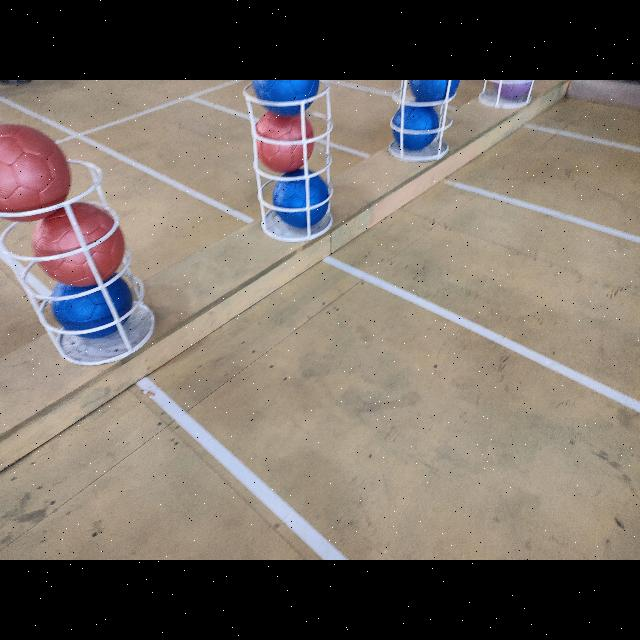B: (50, 282, 132, 338), (274, 171, 330, 227), (392, 100, 442, 152), (250, 80, 320, 116), (408, 80, 462, 102)
R: (34, 199, 124, 285), (0, 124, 68, 220), (250, 111, 316, 172)
